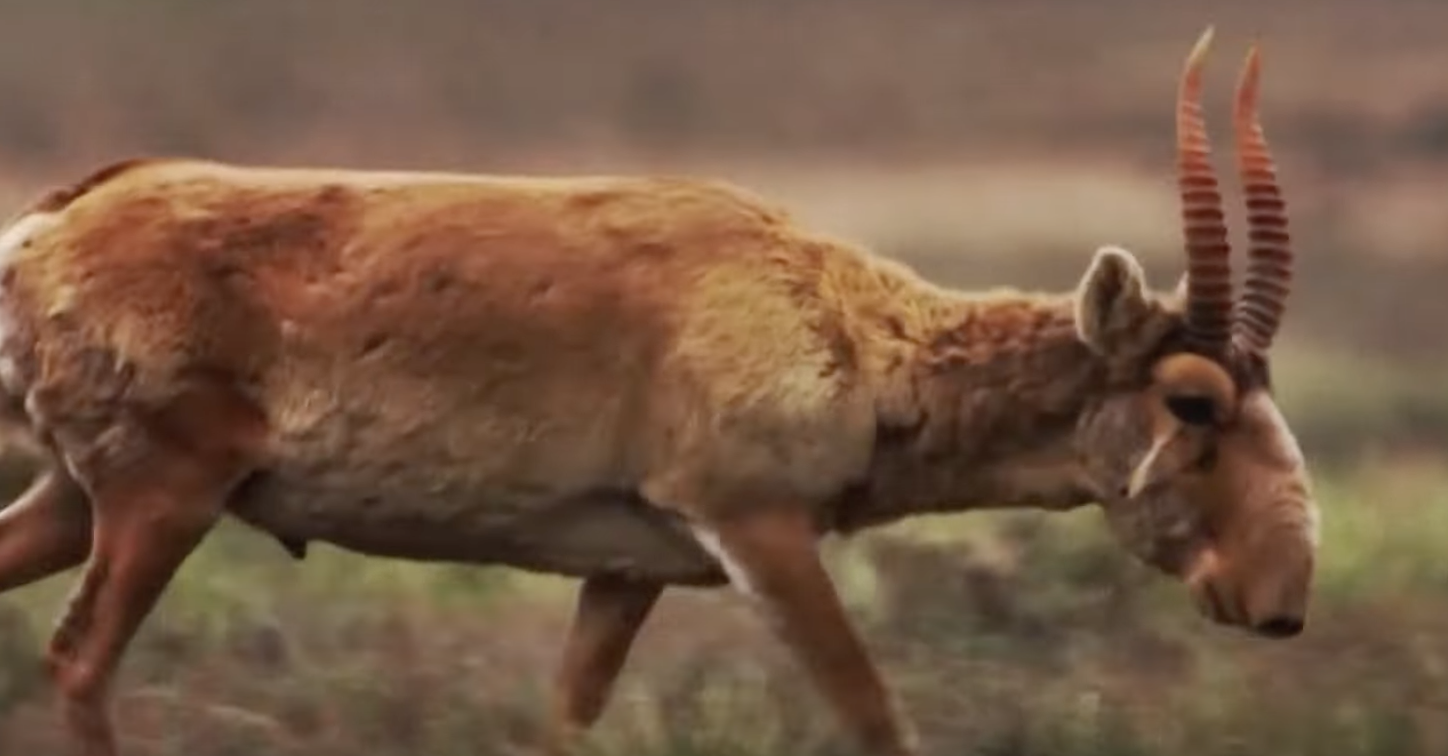saiga: (30, 20, 1324, 756)
